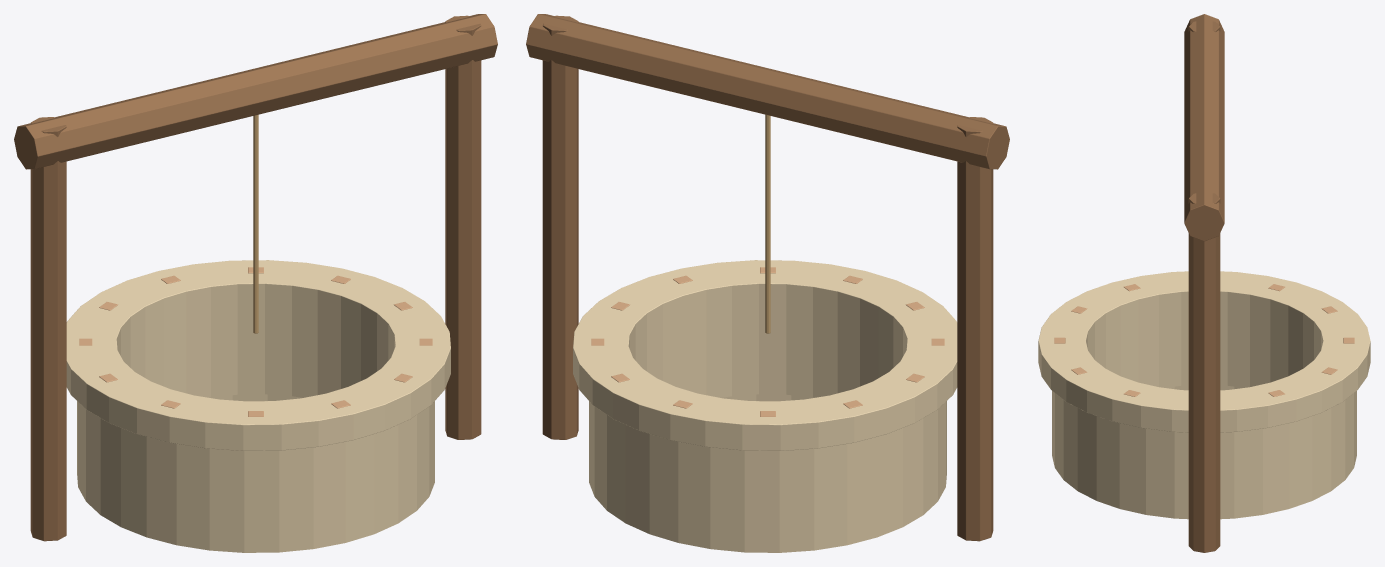
File: SM_CommunityWell.fbx
3 views of the same model, side by side, from view 1: azimuth 30°, elevation 25°; view 2: azimuth 150°, elevation 25°; view 3: azimuth 270°, elevation 25° (orthographic). The views are drawn at different scales.
Visible parts, largest first — view 1: SM_CommunityWell_Export; view 2: SM_CommunityWell_Export; view 3: SM_CommunityWell_Export.
Boxes of the visible parts, bbox=[...] form: SM_CommunityWell_Export: bbox=[14, 14, 497, 552]; SM_CommunityWell_Export: bbox=[526, 14, 1009, 552]; SM_CommunityWell_Export: bbox=[1038, 14, 1370, 552].
Size of the model in its own units: 400 by 294 by 343.
